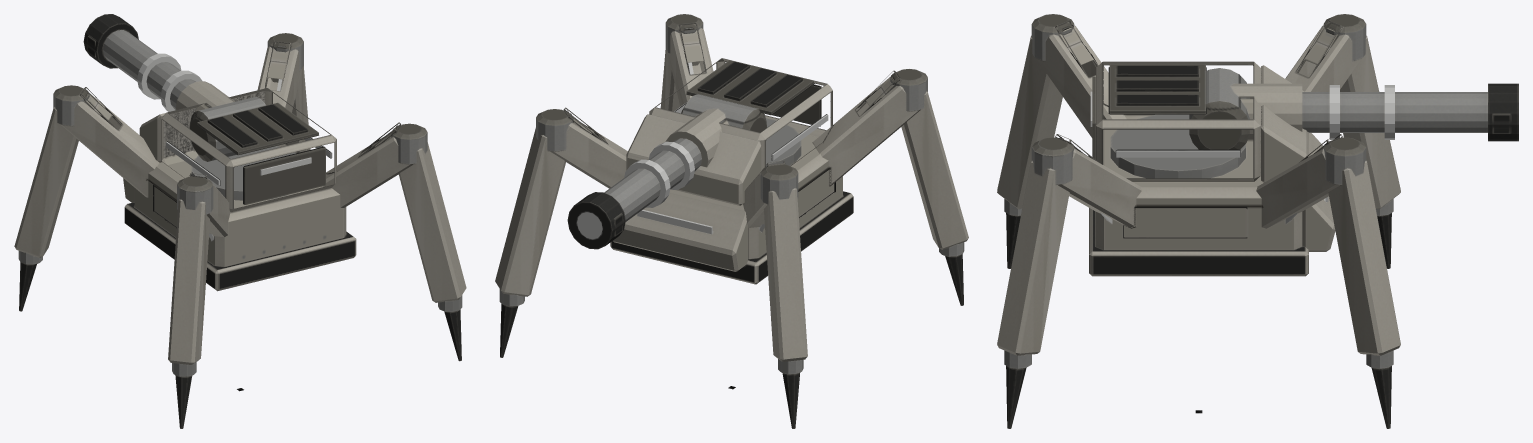
File: ord_monolith.fbx
The picture shows the model from 3 angles, left to right: view 1: azimuth 30°, elevation 25°; view 2: azimuth 150°, elevation 25°; view 3: azimuth 270°, elevation 25°; orthographic projection. The views are drawn at different scales.
Visible parts, largest first — view 1: base_bar, torso_bar, barrel_bar, shinBL_bar, shinBR_bar, thighFL_bar, shinFL_bar, thighBR_bar, thighFR_bar, thighBL_bar, barrel_glow_power_bar, shinFR_bar (+1 smaller); view 2: base_bar, torso_bar, barrel_bar, shinFL_bar, shinFR_bar, thighBL_bar, shinBL_bar, thighFR_bar, thighBR_bar, thighFL_bar, barrel_glow_power_bar, shinBR_bar (+3 smaller); view 3: base_bar, barrel_bar, torso_bar, shinFR_bar, shinBR_bar, shinBL_bar, thighFR_bar, thighBR_bar, thighBL_bar, thighFL_bar, shinFL_bar, barrel_glow_power_bar (+1 smaller).
Part boxes in pixels (box(x1,y1,x2,y2)): base_bar: box(123, 146, 356, 291); torso_bar: box(139, 88, 336, 212); barrel_bar: box(83, 14, 266, 161); shinBL_bar: box(168, 199, 209, 428); shinBR_bar: box(398, 142, 466, 361); thighFL_bar: box(53, 85, 159, 197); shinFL_bar: box(14, 107, 78, 311); thighBR_bar: box(323, 122, 427, 207); thighFR_bar: box(257, 33, 303, 112); thighBL_bar: box(177, 173, 230, 237); barrel_glow_power_bar: box(137, 53, 202, 111); shinFR_bar: box(271, 66, 310, 152); base_bar: box(610, 118, 853, 284); torso_bar: box(626, 58, 832, 205); barrel_bar: box(567, 94, 766, 249); shinFL_bar: box(763, 188, 807, 428); shinFR_bar: box(495, 128, 565, 357); thighBL_bar: box(812, 69, 927, 186); shinBL_bar: box(901, 91, 968, 305); thighFR_bar: box(536, 107, 627, 188); thighBR_bar: box(665, 14, 713, 106); thighFL_bar: box(743, 161, 798, 228); barrel_glow_power_bar: box(624, 141, 694, 207); shinBR_bar: box(660, 49, 699, 111); base_bar: box(1089, 114, 1335, 276); barrel_bar: box(1189, 68, 1518, 149); torso_bar: box(1092, 61, 1308, 182); shinFR_bar: box(1328, 160, 1400, 428); shinBR_bar: box(997, 160, 1069, 428); shinBL_bar: box(997, 35, 1062, 268); thighFR_bar: box(1256, 134, 1366, 228); thighBR_bar: box(1031, 134, 1141, 228); thighBL_bar: box(1031, 14, 1126, 137); thighFL_bar: box(1285, 14, 1366, 91); shinFL_bar: box(1340, 35, 1400, 268); barrel_glow_power_bar: box(1329, 85, 1394, 139).
Size of the model in its own units: 1174 by 1065 by 1517.
Materials: 2 (2 with a texture image).
